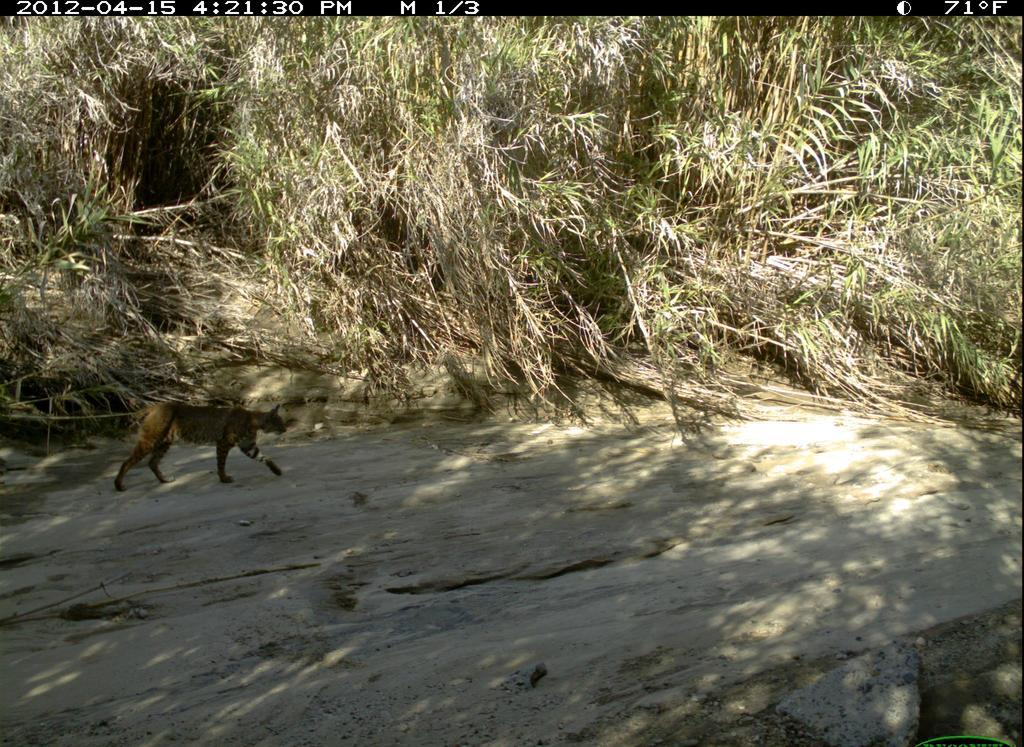bobcat: (111, 398, 293, 495)
